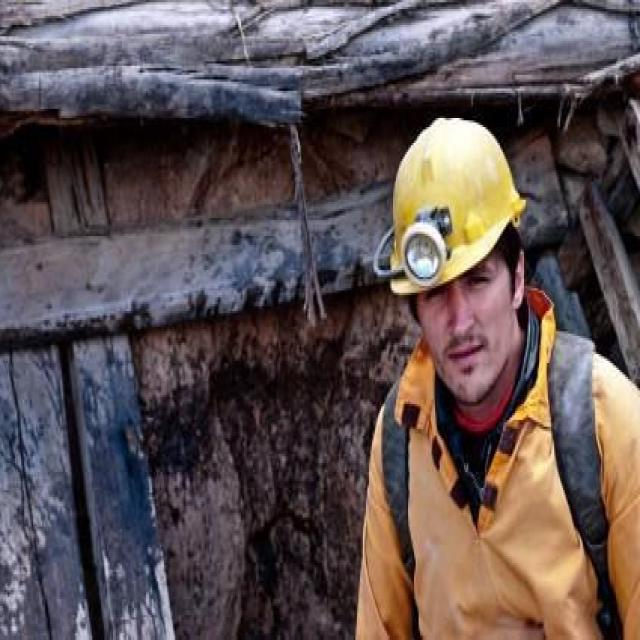face_nomask: (423, 252, 515, 402)
head_helmet: (377, 114, 530, 295)
person: (354, 91, 638, 628)
